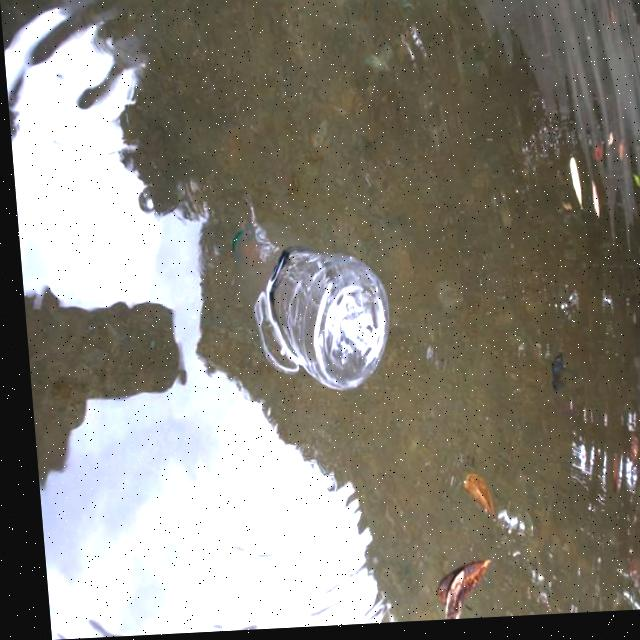leaf: (411, 554, 491, 625), (437, 459, 496, 531)
waterbottle: (202, 200, 401, 402)
